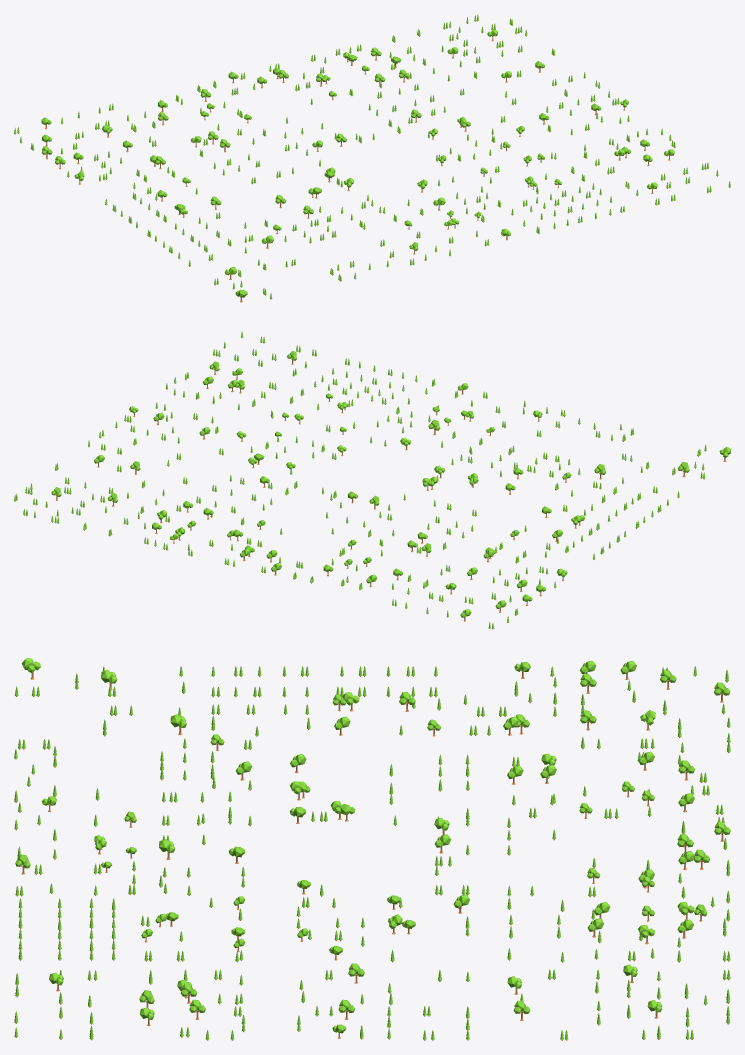
Rendered from Trees.fbx.
The picture shows the model from 3 angles, top to bottom: view 1: azimuth 30°, elevation 25°; view 2: azimuth 150°, elevation 25°; view 3: azimuth 270°, elevation 25°; orthographic projection. The views are drawn at different scales.
Bounding box in the file's own units: 23894 × 605 × 19779.
